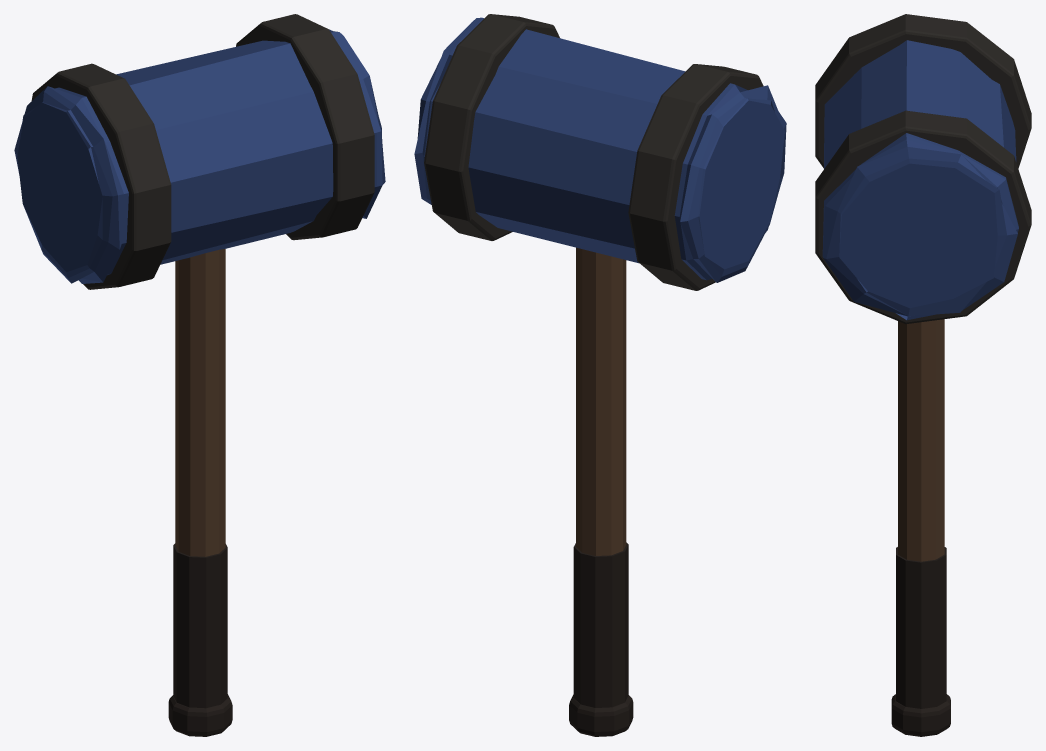
The model's file is hammer_iwadaru.fbx.
The picture shows the model from 3 angles, left to right: view 1: azimuth 30°, elevation 25°; view 2: azimuth 150°, elevation 25°; view 3: azimuth 270°, elevation 25°; orthographic projection. The views are drawn at different scales.
Visible parts, largest first — view 1: iwadaru_hammer; view 2: iwadaru_hammer; view 3: iwadaru_hammer.
Boxes of the visible parts, x1=… form: iwadaru_hammer: x1=14, y1=14, x2=385, y2=736; iwadaru_hammer: x1=414, y1=14, x2=786, y2=736; iwadaru_hammer: x1=815, y1=14, x2=1031, y2=736.
Size of the model in its own units: 1.16 by 2.66 by 0.7938.
